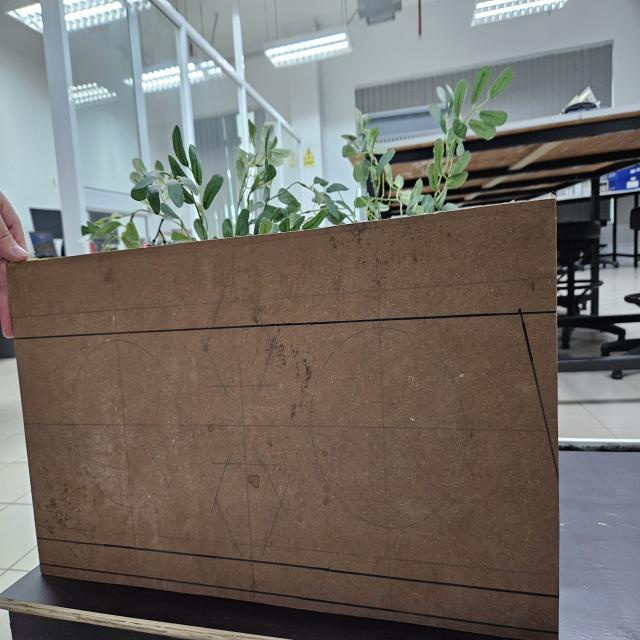plant: (76, 116, 344, 461), (337, 81, 541, 415)
